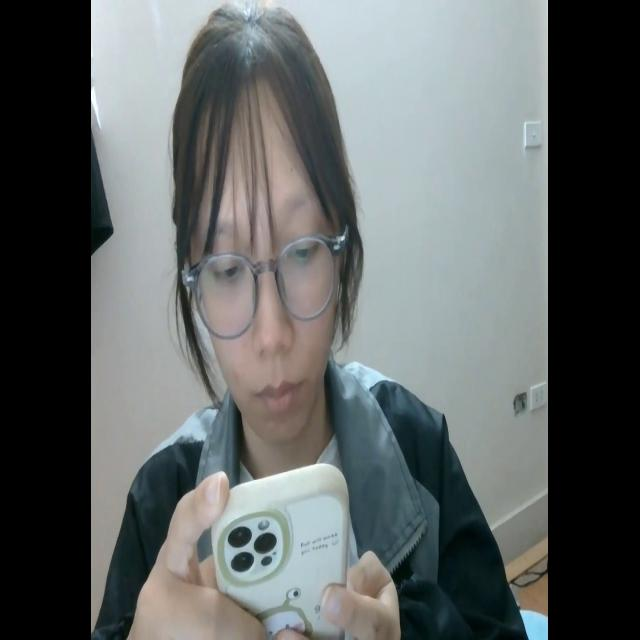phone: (207, 461, 352, 640)
student: (98, 8, 527, 640)
